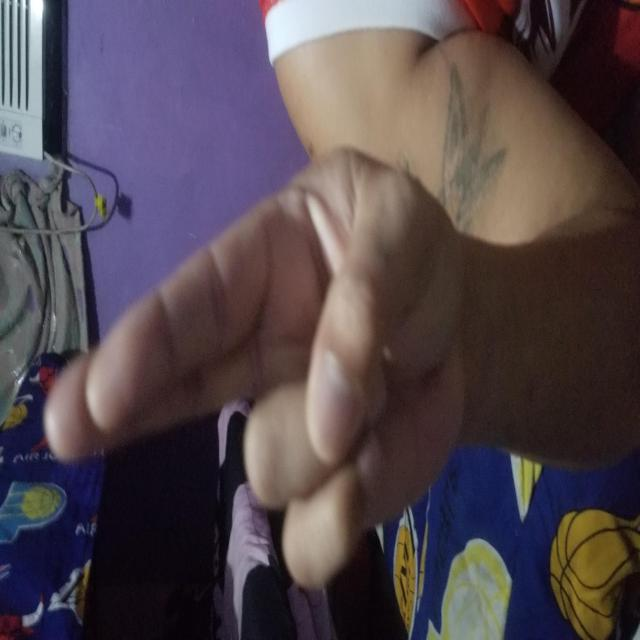R: (49, 42, 496, 472)
